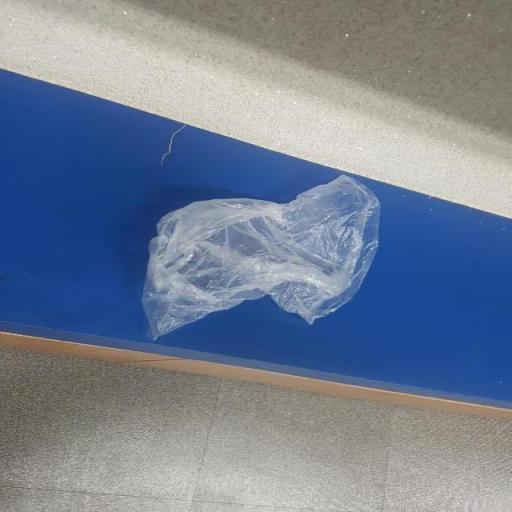plastic-bag: (136, 176, 386, 342)
